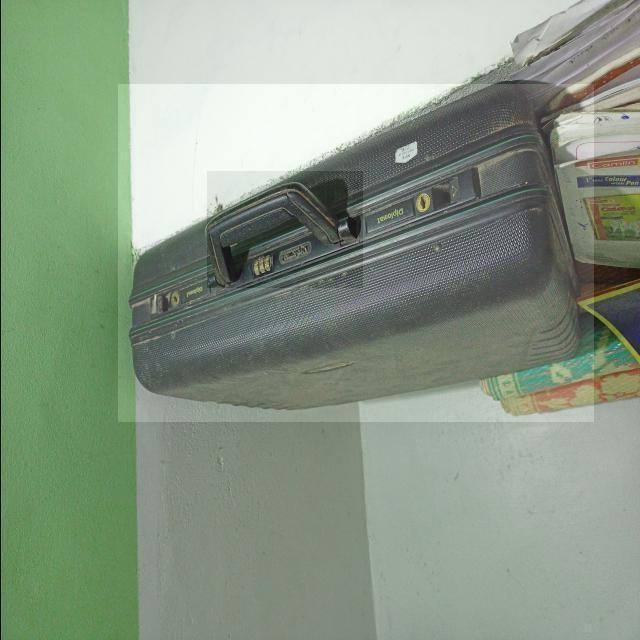Suitcase: (119, 81, 584, 414)
